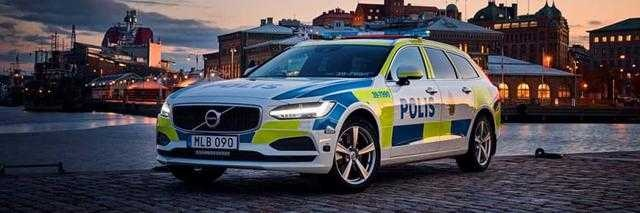Police Car: (148, 33, 505, 190)
